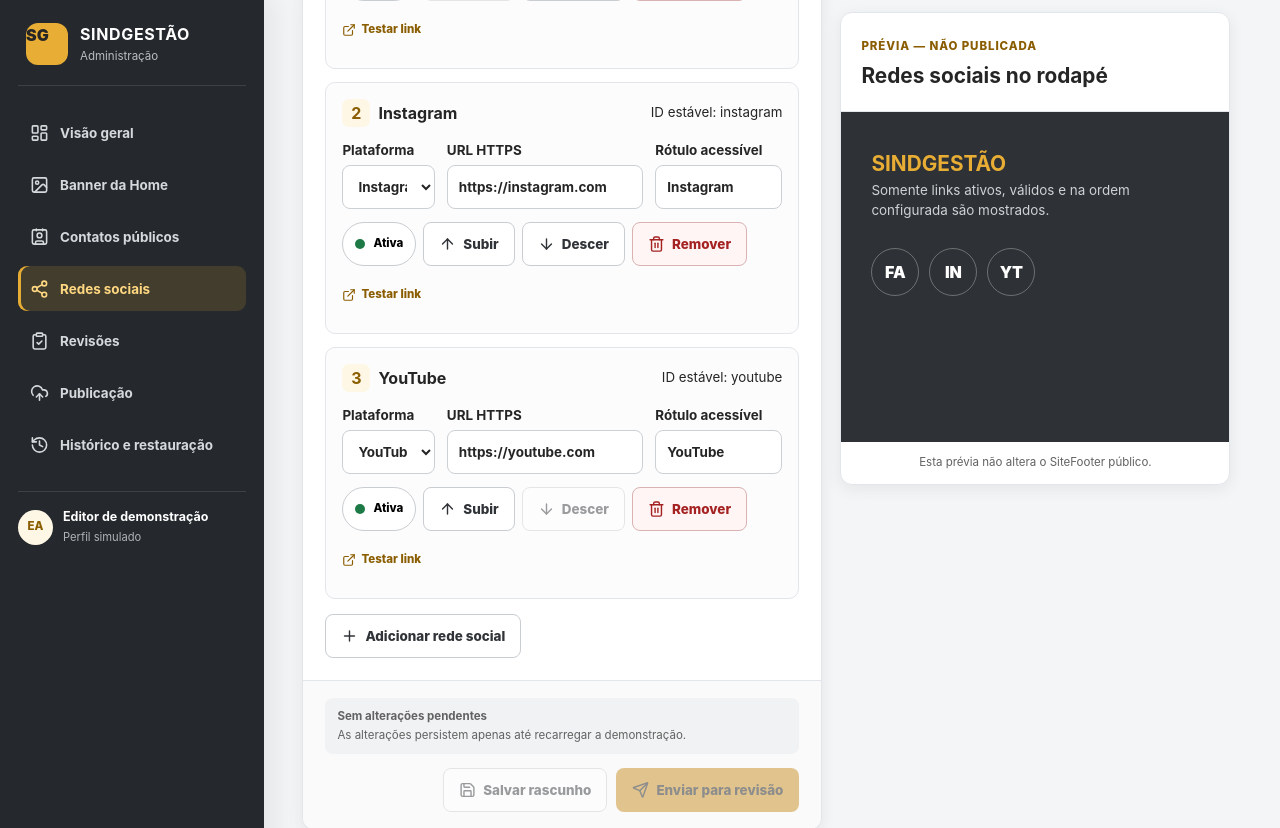
it: F2.2B social editor › adds the first unused platform with a stable draft id
(page scrolled)
Click the button "Adicionar rede social" at (423, 636), box x1=325 y1=614 x2=521 y2=658
(page scrolled)
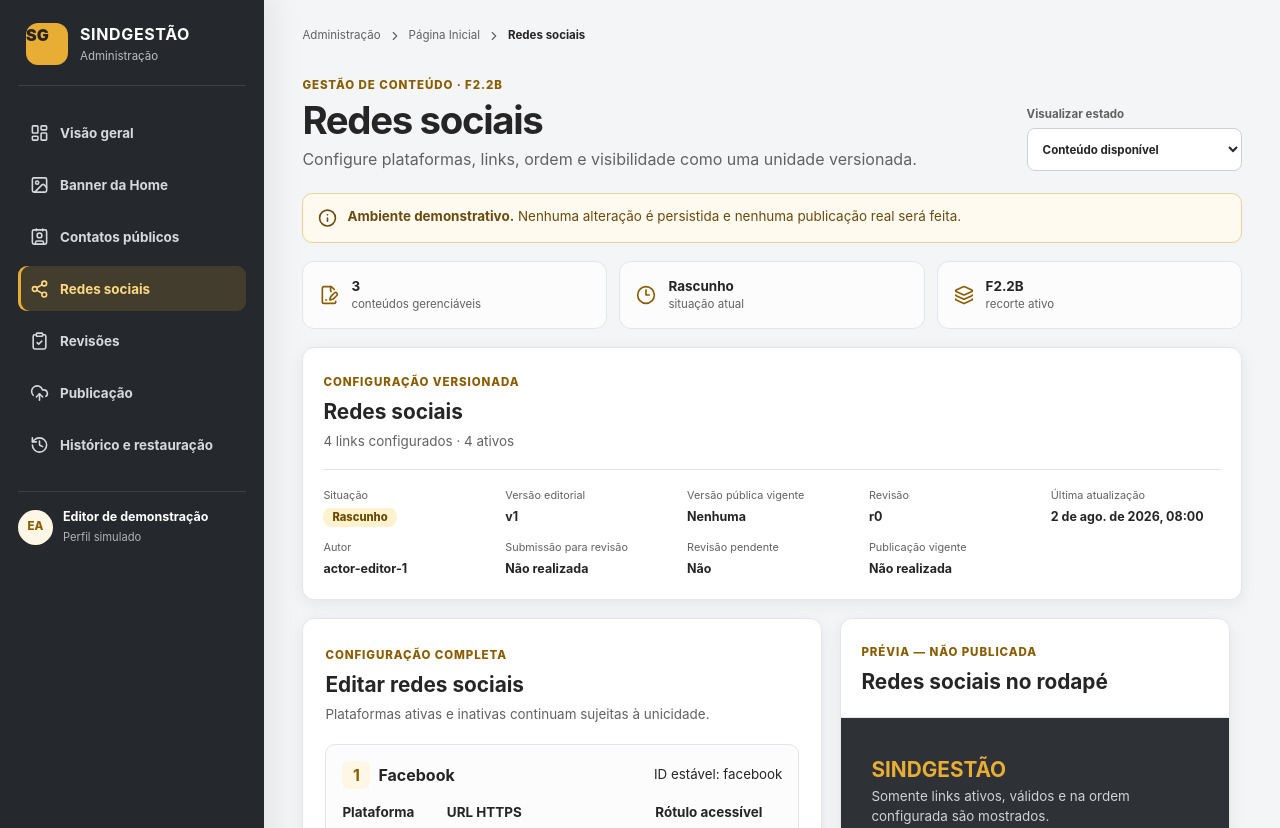
Expected: the text "4 links configurados · 4 ativos" is shown, x1=323 y1=433 x2=514 y2=449
